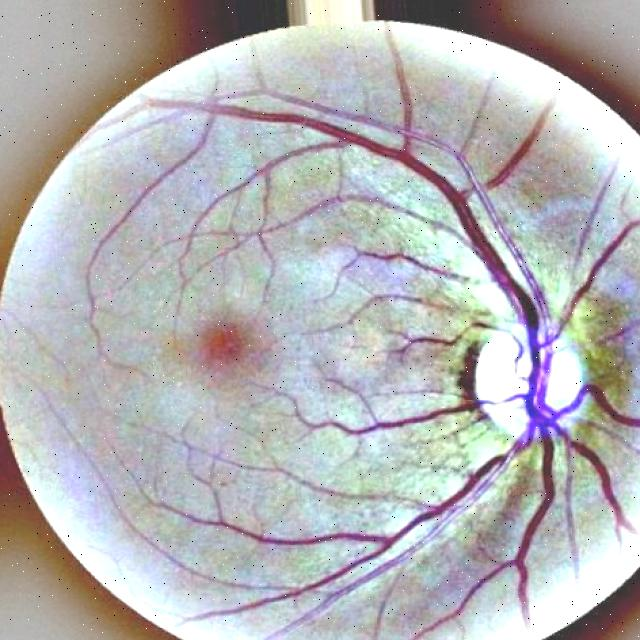Macula: (168, 302, 270, 399)
Nerves: (173, 35, 640, 640)
Optic Disk: (453, 298, 621, 459)
